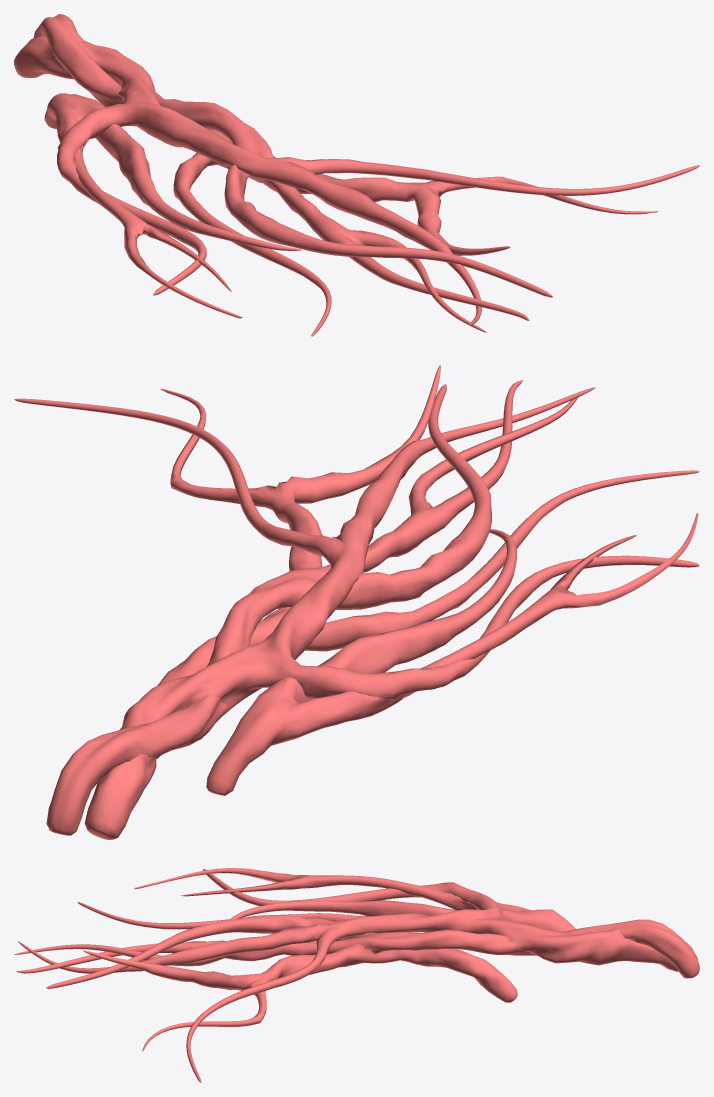
The model's file is branch04.fbx.
The picture shows the model from 3 angles, top to bottom: view 1: azimuth 30°, elevation 25°; view 2: azimuth 150°, elevation 25°; view 3: azimuth 270°, elevation 25°; orthographic projection. The views are drawn at different scales.
Parts seen in each view (by area): view 1: branch15; view 2: branch15; view 3: branch15.
Part boxes in pixels (x1=…): branch15: x1=14, y1=14, x2=699, y2=336; branch15: x1=14, y1=365, x2=699, y2=839; branch15: x1=14, y1=868, x2=699, y2=1082.
Size of the model in its own units: 3.23 by 0.4812 by 4.43.
